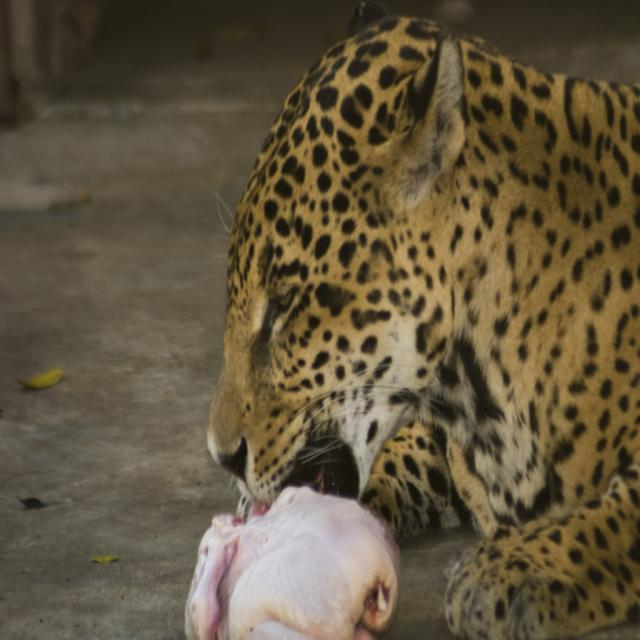Cheetah: (203, 10, 640, 640)
